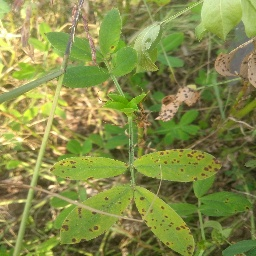GroundNut_Leaf: (59, 185, 133, 245), (135, 185, 197, 254), (134, 148, 222, 182), (46, 32, 99, 65), (50, 157, 126, 179), (200, 1, 242, 39), (156, 86, 199, 122), (203, 190, 256, 215), (127, 24, 166, 55), (61, 66, 108, 89), (101, 7, 121, 59), (106, 93, 149, 116), (240, 50, 256, 93), (221, 239, 256, 255), (219, 54, 236, 79), (106, 132, 128, 150), (66, 141, 91, 155), (168, 32, 185, 52), (246, 1, 255, 38), (14, 63, 36, 78)
